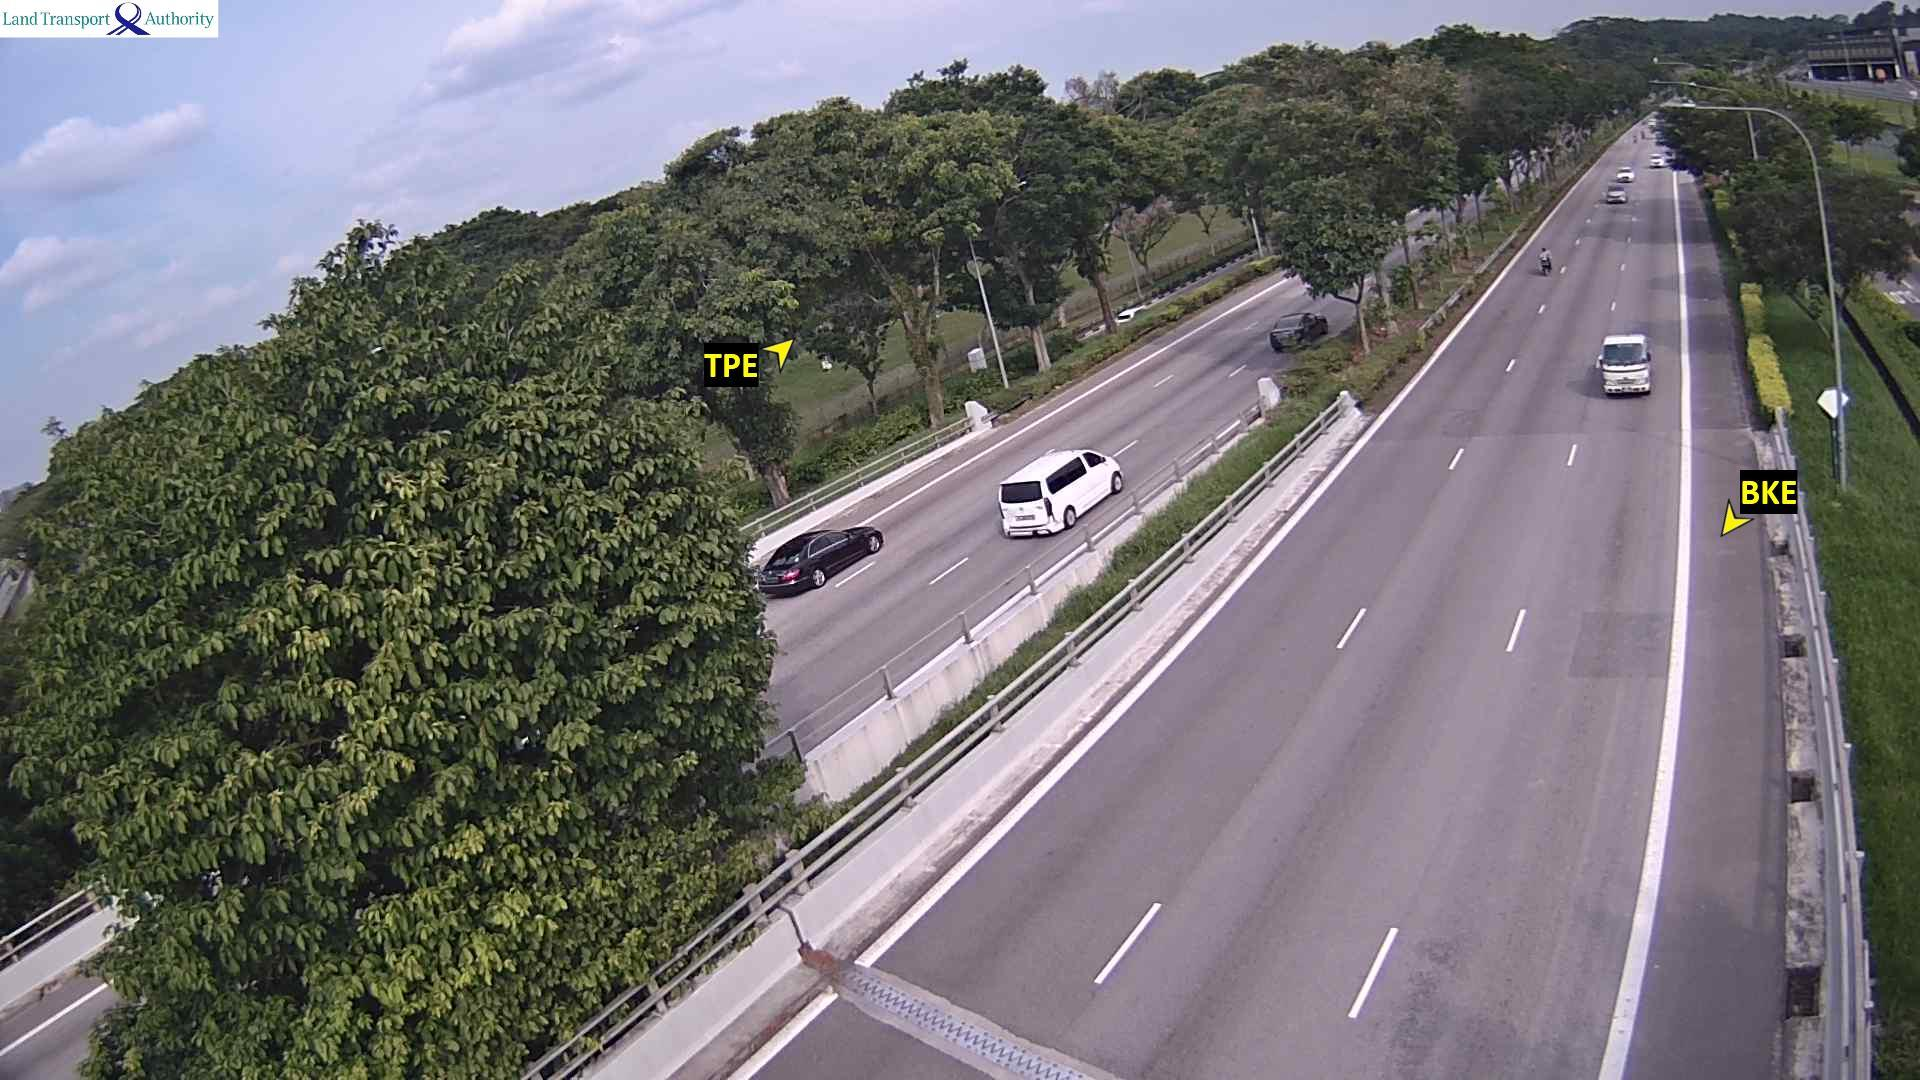cars: (996, 446, 1124, 539), (754, 524, 884, 597), (1596, 332, 1652, 396), (1269, 311, 1328, 351), (1648, 142, 1687, 170), (1114, 301, 1151, 322), (1663, 146, 1685, 167), (1604, 185, 1626, 204), (1614, 165, 1634, 182), (1647, 152, 1665, 167)
motorcycle: (1538, 248, 1552, 274)
